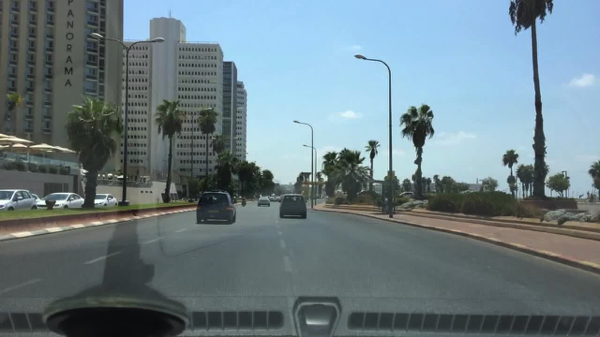car: (195, 189, 237, 225), (0, 189, 38, 213), (39, 192, 87, 208), (278, 193, 308, 218), (92, 194, 120, 209), (357, 190, 379, 196), (258, 197, 271, 207), (398, 192, 416, 199), (274, 198, 284, 203), (232, 197, 237, 204), (269, 197, 275, 202), (341, 192, 348, 196), (324, 195, 330, 199), (279, 196, 284, 200), (265, 195, 271, 198), (280, 194, 285, 197), (322, 194, 325, 198)
motor: (241, 199, 245, 206)
rider: (242, 195, 246, 200)
